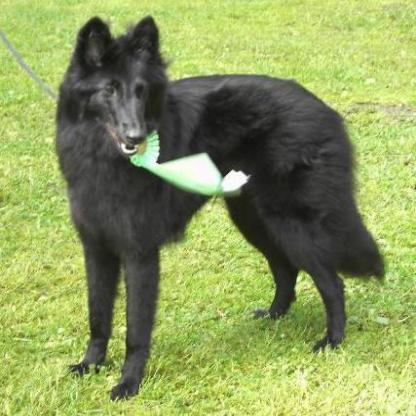groenendael: (53, 12, 386, 400)
